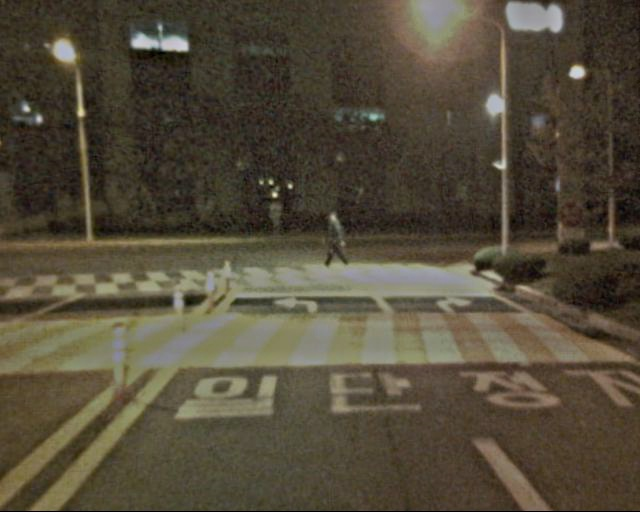person: (319, 211, 348, 281)
